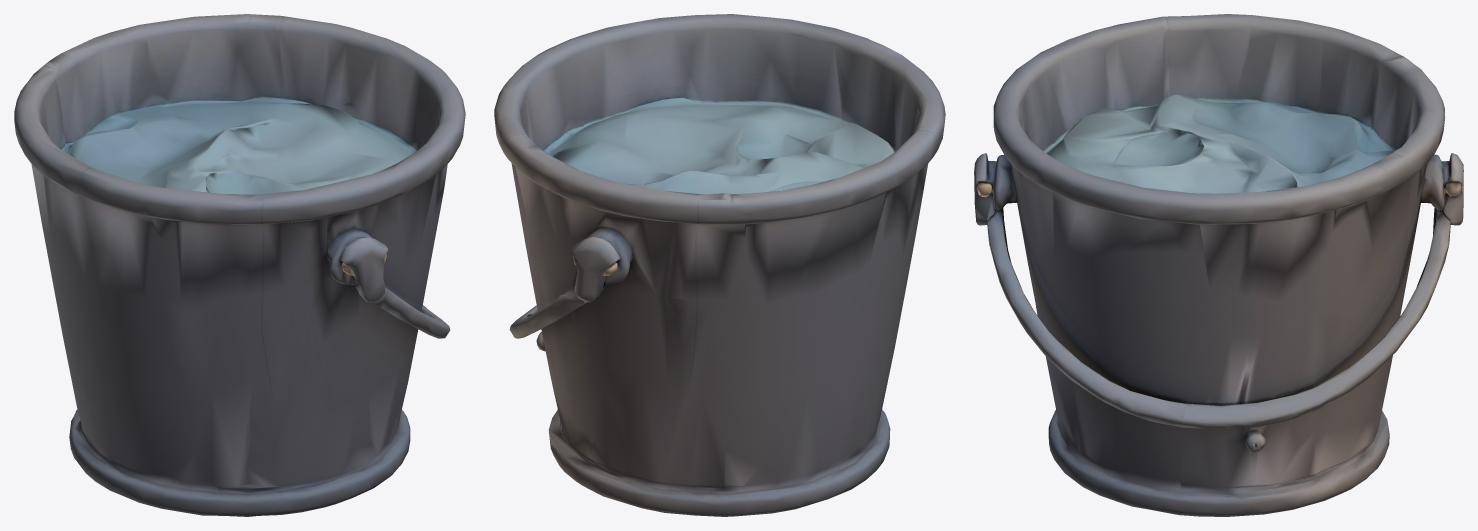
Rendered from bucket.glb.
The picture shows the model from 3 angles, left to right: view 1: azimuth 30°, elevation 25°; view 2: azimuth 150°, elevation 25°; view 3: azimuth 270°, elevation 25°; orthographic projection.
Parts seen in each view (by area): view 1: tripo_node_0de7077b-7b15-4f1e-9396-417f50cd17a1; view 2: tripo_node_0de7077b-7b15-4f1e-9396-417f50cd17a1; view 3: tripo_node_0de7077b-7b15-4f1e-9396-417f50cd17a1.
Boxes of the visible parts, box(x1,y1,x2,y2) form: tripo_node_0de7077b-7b15-4f1e-9396-417f50cd17a1: box(14, 14, 465, 516); tripo_node_0de7077b-7b15-4f1e-9396-417f50cd17a1: box(494, 14, 945, 516); tripo_node_0de7077b-7b15-4f1e-9396-417f50cd17a1: box(974, 14, 1463, 516).
Size of the model in its own units: 0.9243 by 0.7739 by 0.9999.
1 material, 1 textured.
